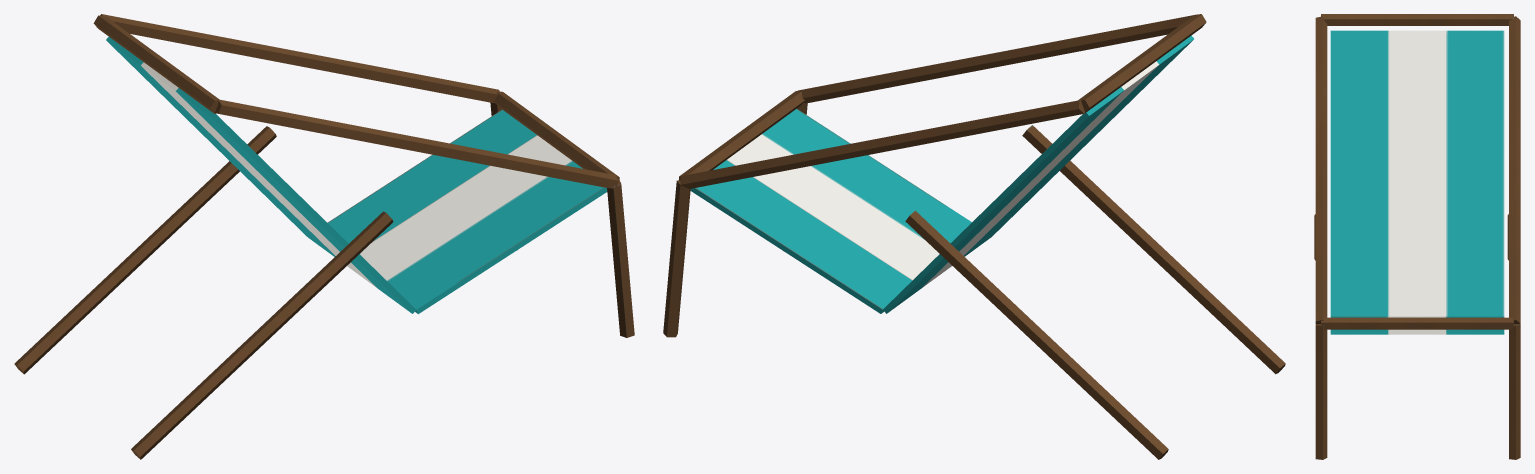
File: lehatko_01361913.glb
3 renders of one model, left to right at view 1: azimuth 30°, elevation 25°; view 2: azimuth 150°, elevation 25°; view 3: azimuth 270°, elevation 25°, orthographic. The views are drawn at different scales.
Parts seen in each view (by area): view 1: dum; view 2: dum; view 3: dum.
Part boxes in pixels (<box>): dum: <box>14,14,634,459</box>; dum: <box>663,14,1285,459</box>; dum: <box>1314,14,1520,459</box>.
Size of the model in its own units: 1.49 by 0.9624 by 0.6383.
Materials: 1 (1 with a texture image).
